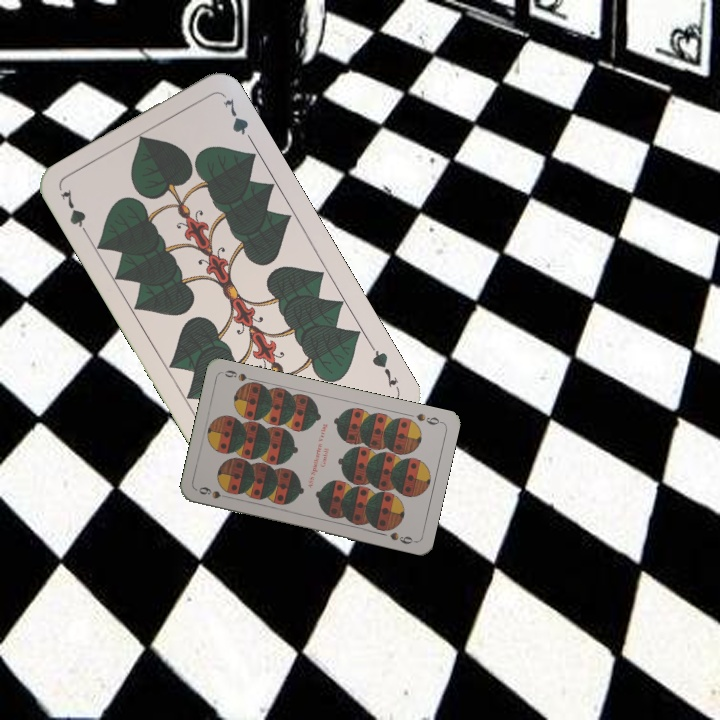G7: (56, 185, 93, 241), (366, 341, 400, 390)
S9: (195, 483, 234, 501), (412, 409, 444, 428)
